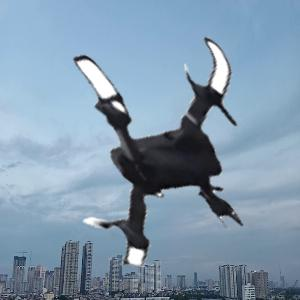drone: (27, 26, 295, 294)
